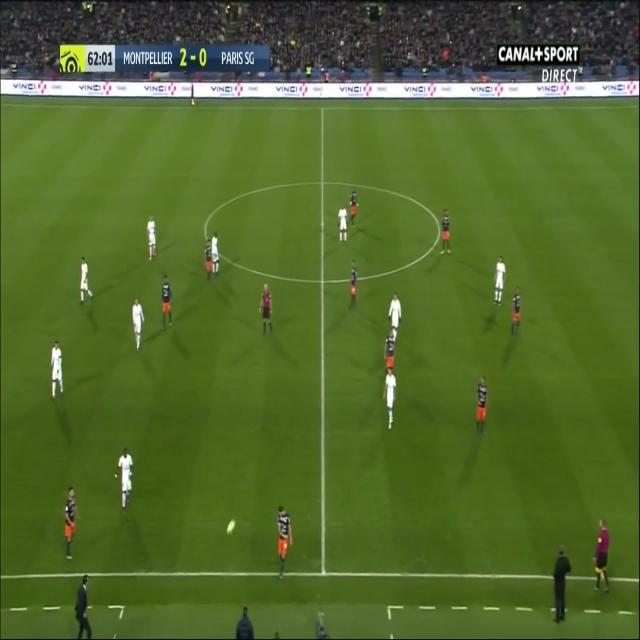Ball: (224, 517, 237, 538)
Player: (273, 501, 295, 580), (112, 446, 135, 513), (62, 485, 80, 564), (381, 365, 398, 435), (49, 338, 66, 403), (474, 369, 490, 437), (130, 295, 147, 356), (160, 272, 176, 334), (78, 254, 95, 310), (491, 252, 508, 306), (386, 290, 404, 337), (438, 207, 453, 258), (383, 326, 397, 373), (335, 202, 351, 243), (146, 213, 158, 265), (348, 258, 360, 310), (511, 285, 523, 335), (203, 238, 214, 288), (211, 229, 222, 278), (348, 189, 360, 230)
Referee: (592, 515, 614, 597), (257, 282, 274, 338)
